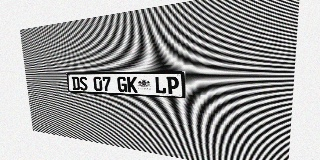plate: (66, 71, 185, 98)
